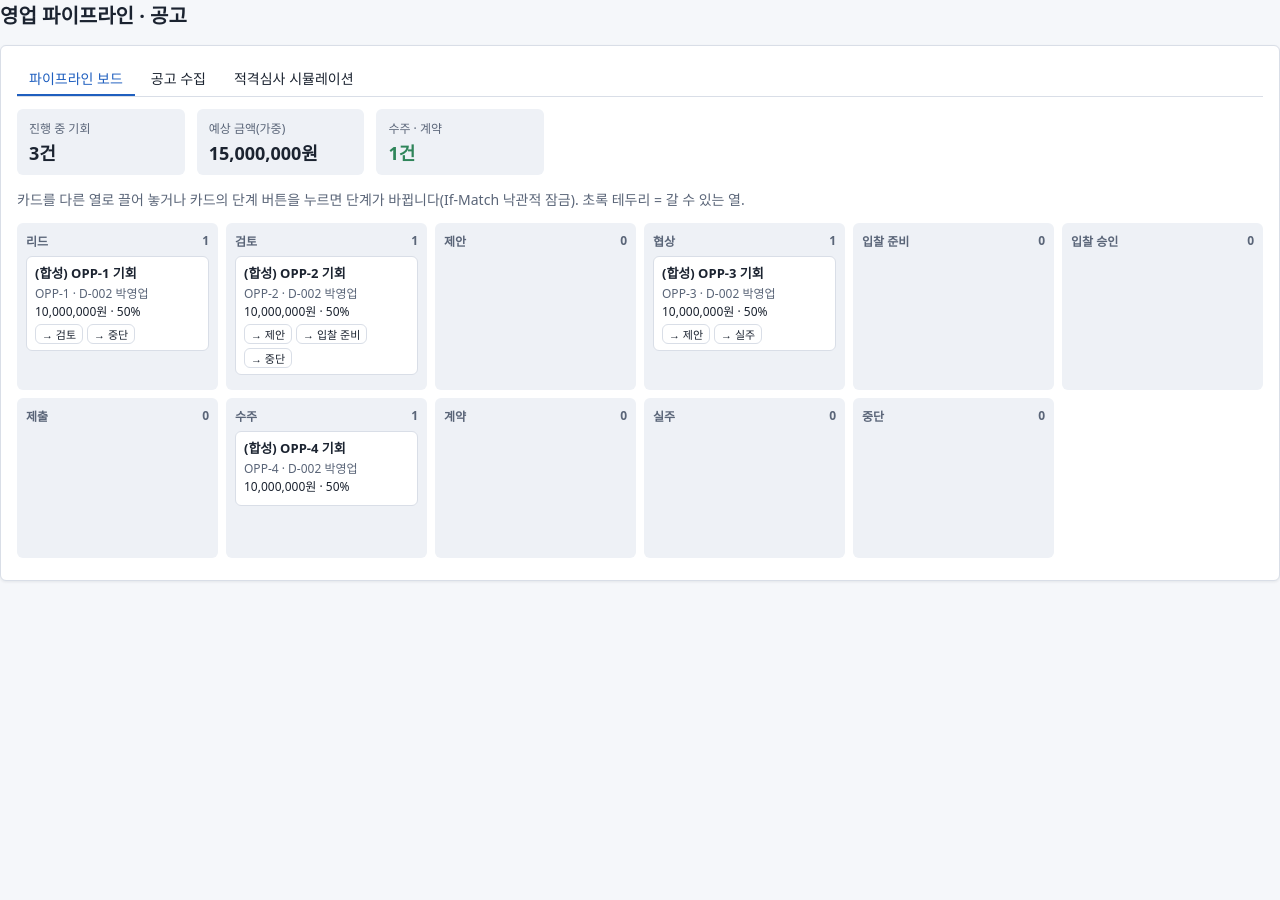
Test: 영업 파이프라인 보드 › 서버 403 · 422 는 보드 위 배너(토스트 아님), 실주는 사유를 고르게 한다
Click the button with aria-label "OPP-1 → 검토": (59, 334) [35,324,83,344]
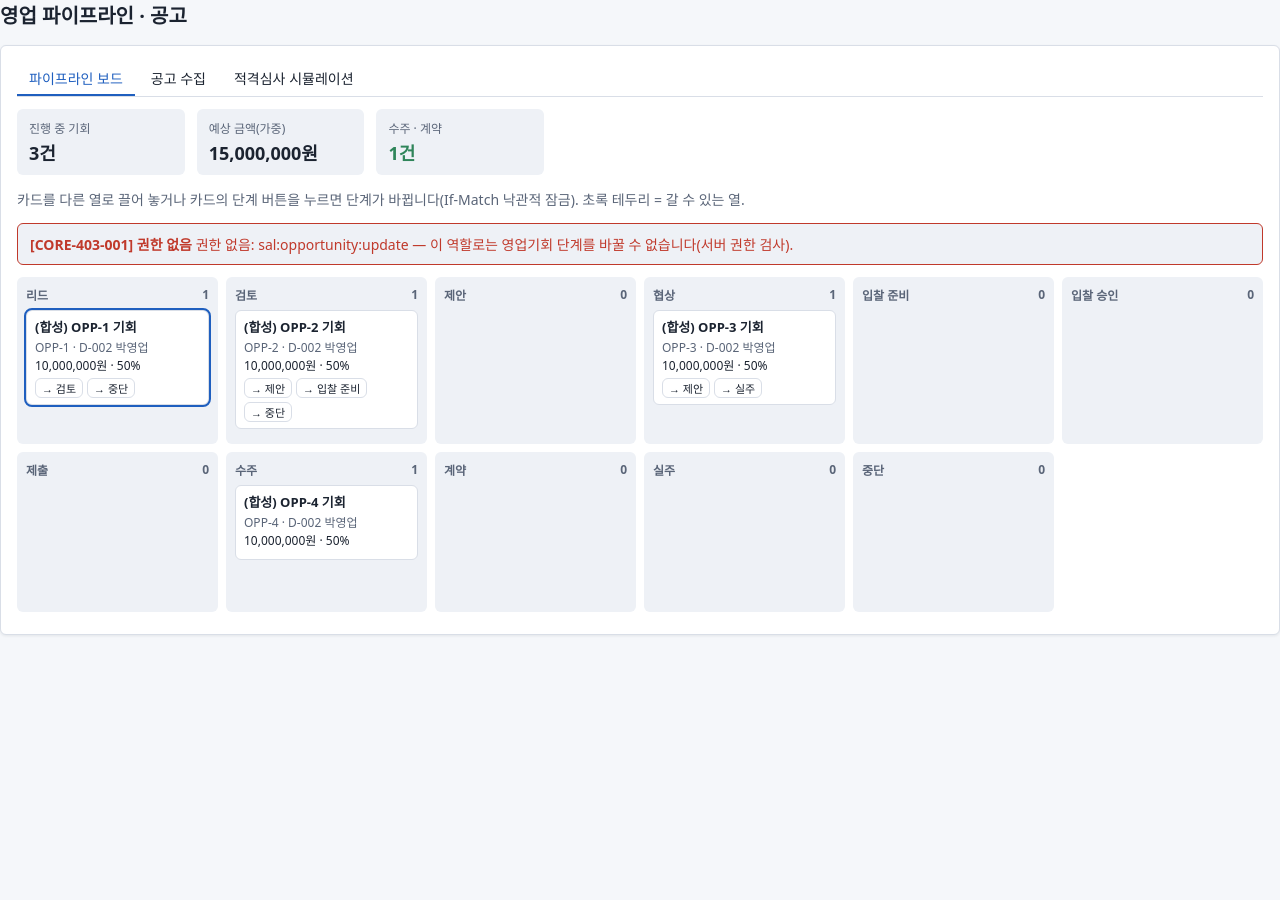
Expected: the message with test id "board-refused" shows "[CORE-403-001]", [30,235,192,254]
Expected: the message with test id "board-refused" shows "이 역할로는", [196,235,793,254]
Click the button with aria-label "OPP-3 → 실주": (738, 388) [714,378,762,398]
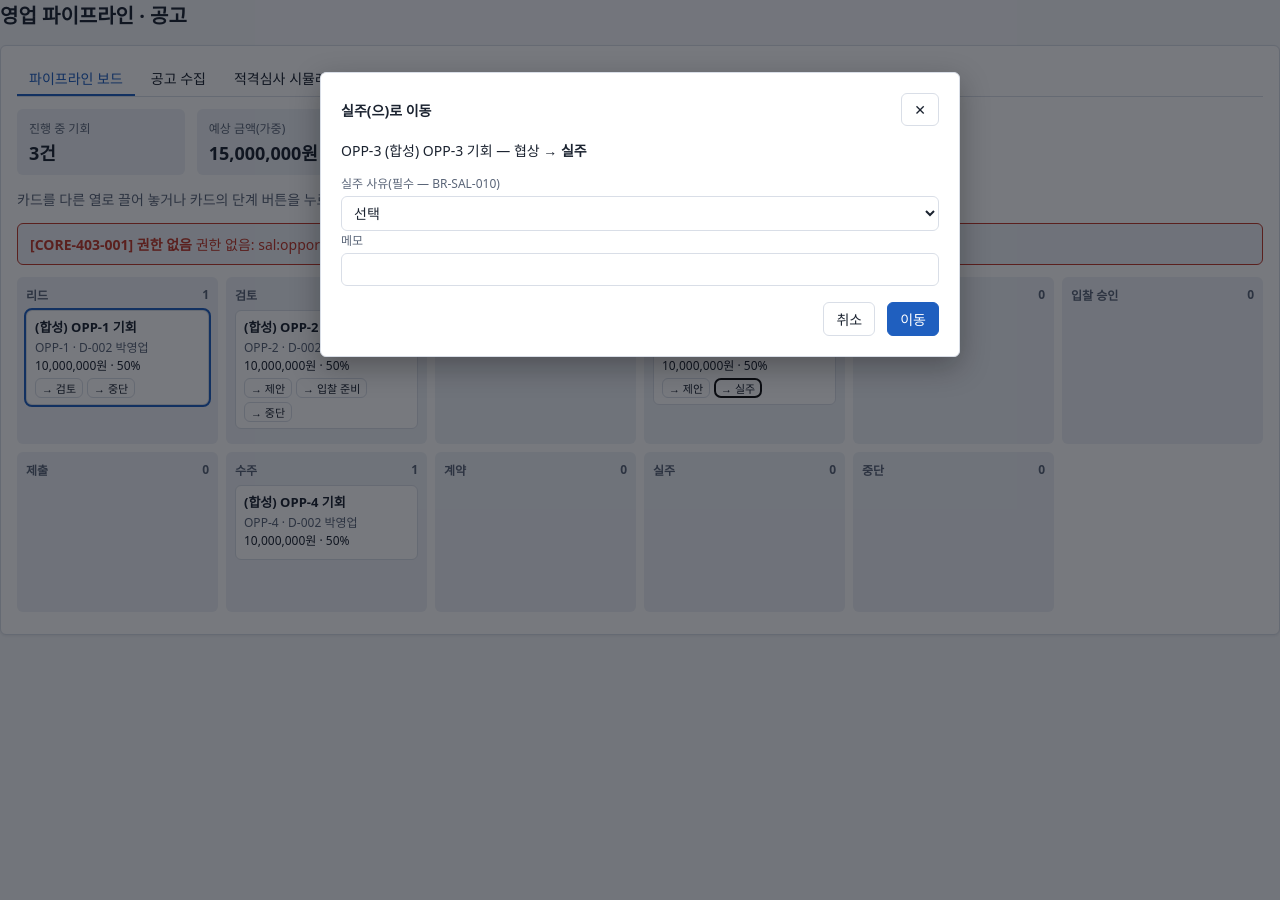
Select "가격" in the dropdown labelled "실주 사유": (640, 214) [341,196,939,231]
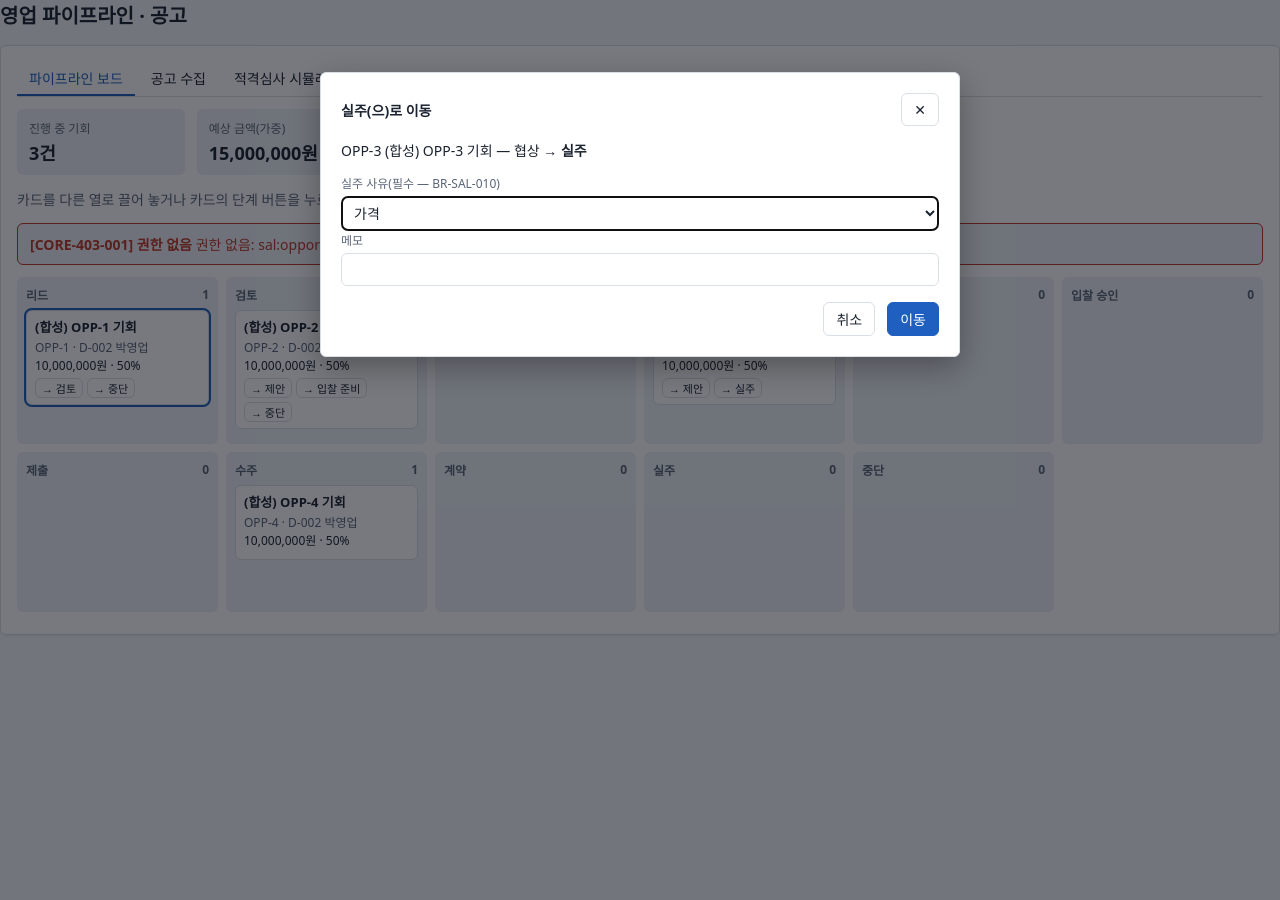
Click the button with test id "move-confirm": (913, 319) [887,302,939,336]
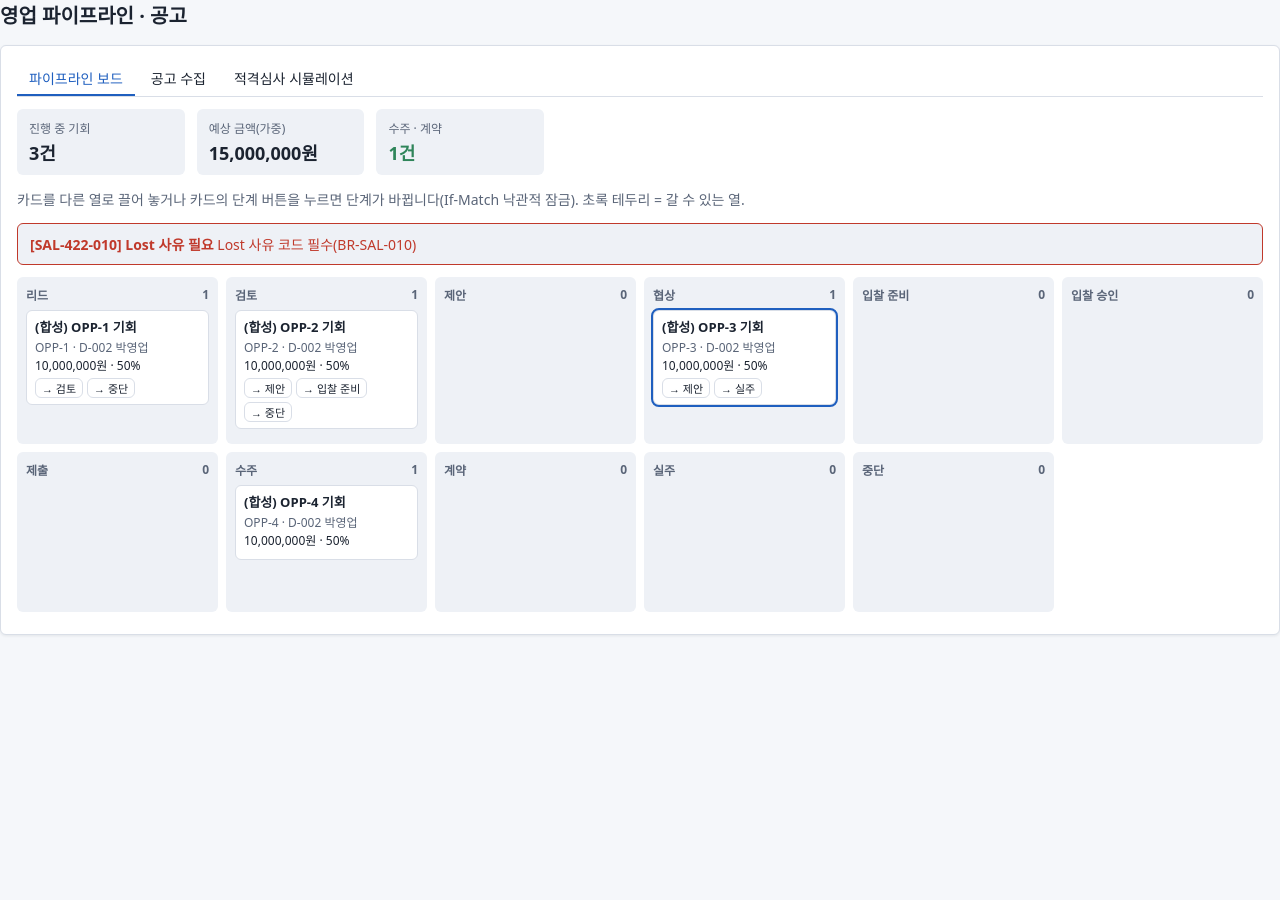
Expected: the message with test id "board-refused" shows "SAL-422-010", [30,235,214,254]
